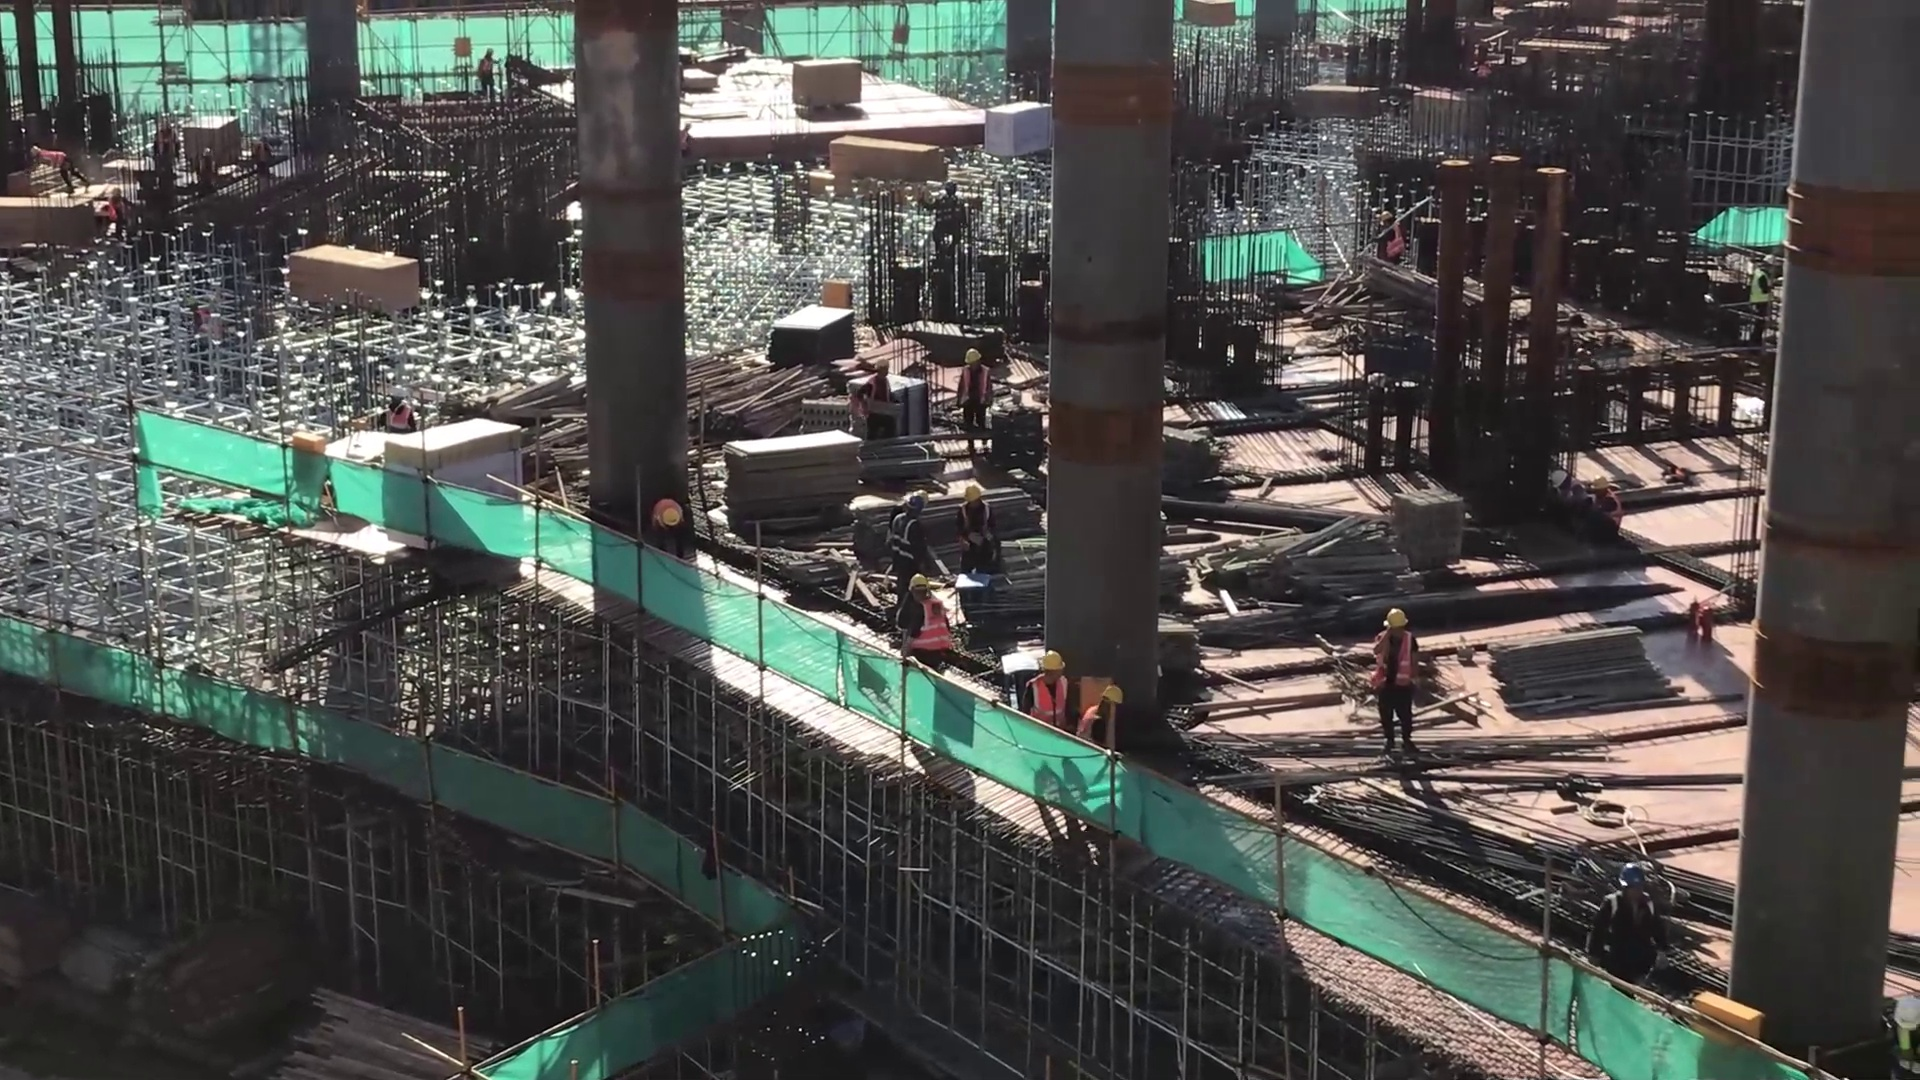helmet: (1098, 676, 1135, 721), (863, 345, 906, 380), (1022, 646, 1069, 673), (1380, 607, 1411, 645), (956, 350, 986, 375), (908, 572, 935, 600), (960, 480, 986, 506), (908, 488, 935, 512), (658, 507, 682, 531), (941, 177, 965, 198), (99, 181, 123, 201), (384, 385, 405, 405), (23, 143, 42, 162), (1594, 475, 1614, 495), (476, 41, 497, 59), (1551, 469, 1570, 487), (1375, 209, 1394, 226), (1760, 250, 1777, 266)
person: (1361, 601, 1435, 767), (897, 569, 959, 671), (954, 343, 1004, 453), (1015, 639, 1074, 734), (886, 484, 939, 577), (955, 476, 1004, 573), (19, 146, 94, 200), (848, 349, 898, 417), (372, 379, 421, 437), (649, 493, 688, 558), (470, 40, 507, 104), (1545, 466, 1587, 524), (98, 180, 138, 235), (1744, 250, 1781, 310), (1367, 209, 1408, 260), (1587, 473, 1621, 534)
rebar: (1260, 723, 1751, 964)
vest: (908, 602, 953, 658), (1371, 641, 1412, 696), (1026, 679, 1064, 723), (887, 517, 921, 565), (960, 510, 994, 555), (1747, 267, 1774, 306), (44, 147, 71, 172), (1380, 228, 1402, 258), (385, 401, 412, 425)
wood: (1467, 613, 1699, 738), (686, 354, 797, 430)
